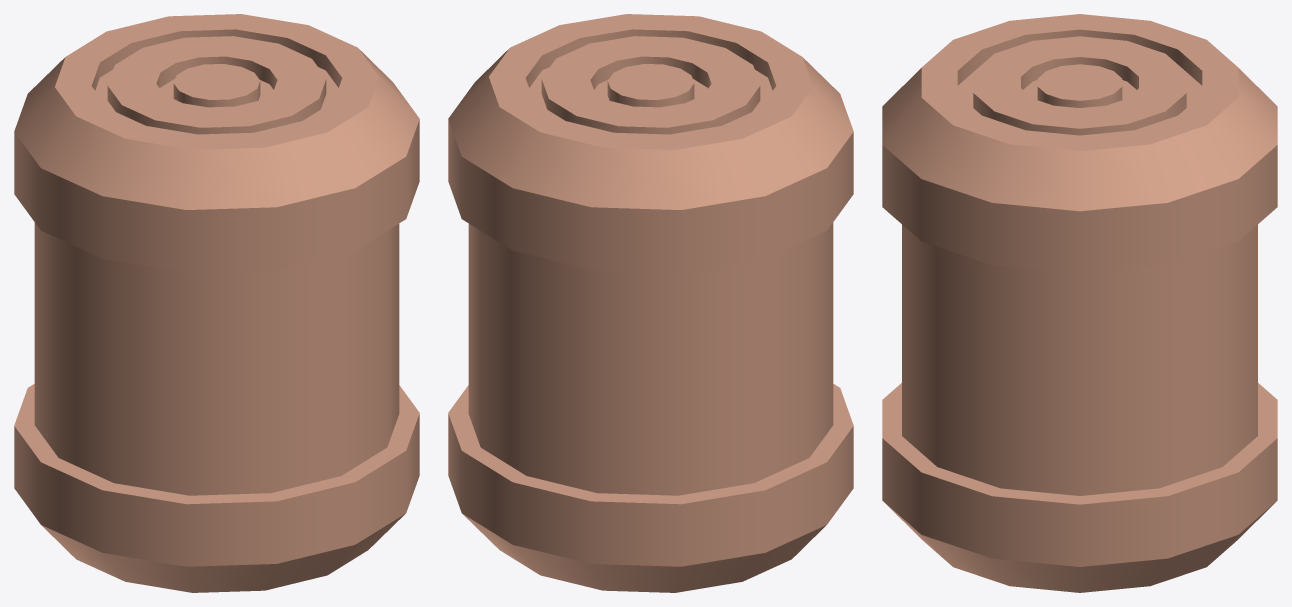
The model's file is Bidon1.fbx.
The picture shows the model from 3 angles, left to right: view 1: azimuth 30°, elevation 25°; view 2: azimuth 150°, elevation 25°; view 3: azimuth 270°, elevation 25°; orthographic projection.
Visible parts, largest first — view 1: polySurface51; view 2: polySurface51; view 3: polySurface51.
Part boxes in pixels (x1,y1,x2,y2): polySurface51: (14, 14, 419, 592); polySurface51: (448, 14, 853, 592); polySurface51: (882, 14, 1277, 592).
Size of the model in its own units: 1.25 by 1.5 by 1.22.
